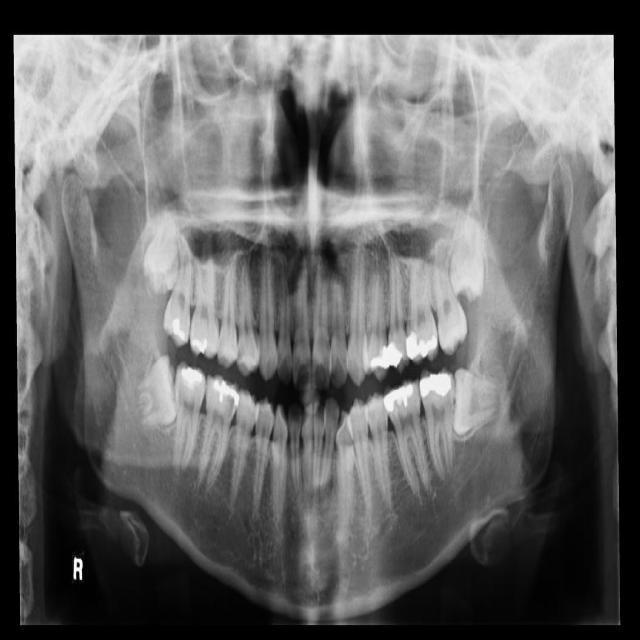Filling: (383, 382, 414, 411), (403, 333, 435, 361), (212, 379, 241, 407), (417, 373, 451, 395), (180, 367, 203, 389), (387, 343, 404, 367), (370, 346, 388, 368), (170, 317, 186, 338), (192, 338, 210, 354)
impacted tooth: (445, 193, 488, 300)
